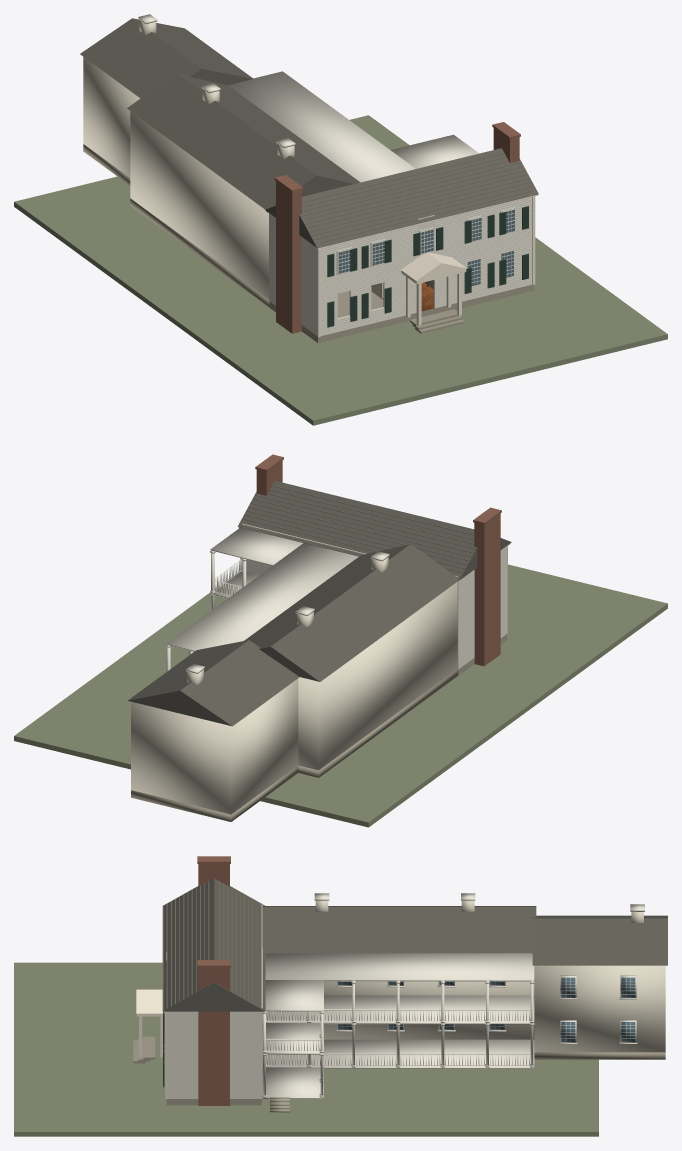
File: world-v2-low.glb
3 renders of one model, top to bottom at view 1: azimuth 30°, elevation 25°; view 2: azimuth 150°, elevation 25°; view 3: azimuth 270°, elevation 25°, orthographic. The views are drawn at different scales.
Visible parts, largest first — view 1: Cutaway landscape, Survey ell and gallery, Gable wall.001, Roof, Chimney coping, Roof battens, Shutters, Corner boards, Ashlar foundation, Survey east glazing, Shutter louvers; view 2: Survey ell and gallery, Cutaway landscape, Gable wall.001, Roof, Chimney coping, Roof battens; view 3: Cutaway landscape, Survey ell and gallery, Gable wall.001, Roof, Chimney coping, Roof battens, Survey east glazing, Corner boards, Ashlar foundation.
Boxes of the visible parts, left/top/right/bottom form: Cutaway landscape: left=14, top=115, right=667, bottom=425; Survey ell and gallery: left=80, top=18, right=360, bottom=307; Gable wall.001: left=138, top=14, right=532, bottom=336; Roof: left=265, top=148, right=538, bottom=247; Chimney coping: left=274, top=122, right=520, bottom=333; Roof battens: left=265, top=151, right=538, bottom=248; Shutters: left=327, top=206, right=528, bottom=327; Corner boards: left=266, top=194, right=537, bottom=337; Ashlar foundation: left=269, top=284, right=534, bottom=343; Survey east glazing: left=339, top=210, right=514, bottom=285; Shutter louvers: left=328, top=208, right=528, bottom=326; Survey ell and gallery: left=127, top=544, right=458, bottom=821; Cutaway landscape: left=14, top=564, right=667, bottom=827; Gable wall.001: left=165, top=523, right=506, bottom=673; Roof: left=238, top=481, right=511, bottom=580; Chimney coping: left=255, top=454, right=501, bottom=666; Roof battens: left=237, top=481, right=511, bottom=580; Cutaway landscape: left=14, top=962, right=598, bottom=1136; Survey ell and gallery: left=262, top=900, right=667, bottom=1112; Gable wall.001: left=164, top=893, right=644, bottom=1098; Roof: left=163, top=878, right=264, bottom=1011; Chimney coping: left=197, top=856, right=230, bottom=1105; Roof battens: left=162, top=881, right=265, bottom=1011; Survey east glazing: left=164, top=977, right=635, bottom=1041; Corner boards: left=136, top=989, right=264, bottom=1098; Ashlar foundation: left=133, top=1036, right=261, bottom=1105.
Bounding box in the file's own units: 26 × 10.45 × 42.47.
17 materials, 2 textured.
